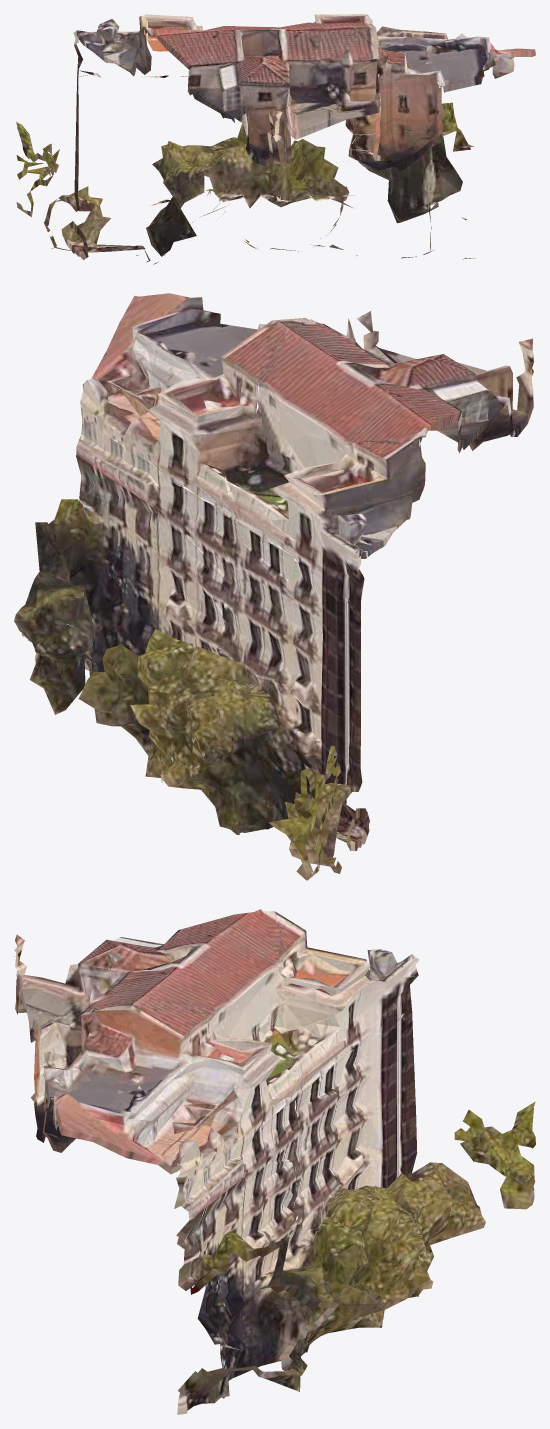
3 views of the same model, one above another, from view 1: azimuth 30°, elevation 25°; view 2: azimuth 150°, elevation 25°; view 3: azimuth 270°, elevation 25° (orthographic). The views are drawn at different scales.
Parts seen in each view (by area): view 1: Mesh_0; view 2: Mesh_0; view 3: Mesh_0.
Boxes of the visible parts, left/top/right/bottom form: Mesh_0: left=16, top=14, right=535, bottom=264; Mesh_0: left=14, top=293, right=533, bottom=880; Mesh_0: left=14, top=909, right=535, bottom=1414.
Size of the model in its own units: 33.72 by 28.73 by 38.3.
2 materials, 2 textured.
